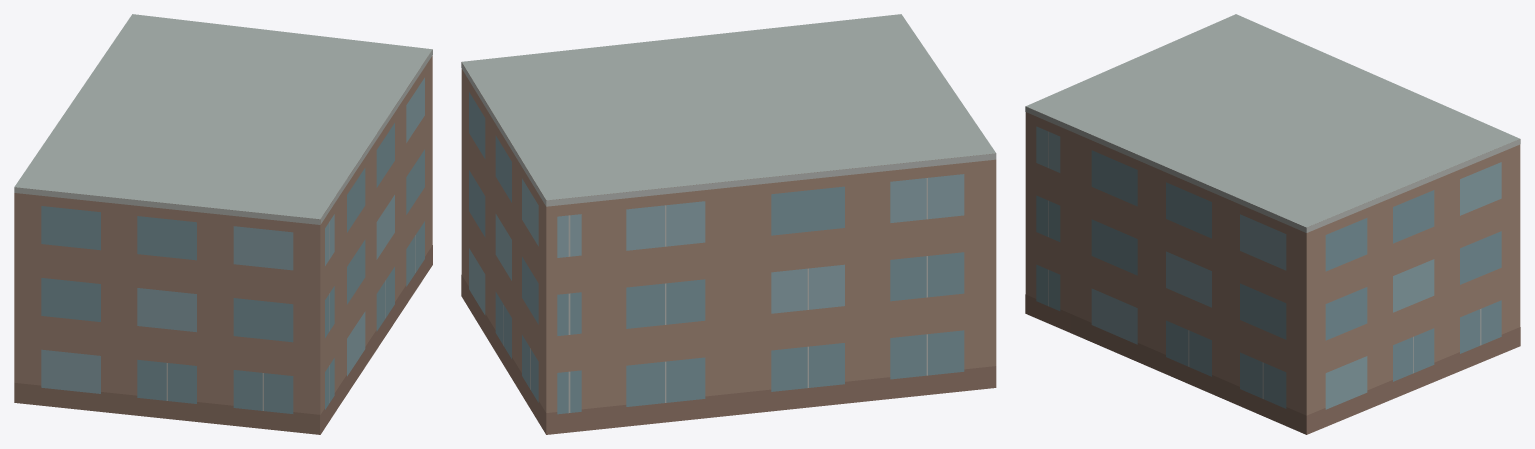
The model's file is survey-upis-32562343.glb.
3 views of the same model, side by side, from view 1: azimuth 30°, elevation 25°; view 2: azimuth 150°, elevation 25°; view 3: azimuth 270°, elevation 25° (orthographic). The views are drawn at different scales.
Parts seen in each view (by area): view 1: survey-upis-32562343.tmp; view 2: survey-upis-32562343.tmp; view 3: survey-upis-32562343.tmp.
Boxes of the visible parts, bbox=[...] form: survey-upis-32562343.tmp: bbox=[14, 14, 432, 434]; survey-upis-32562343.tmp: bbox=[461, 14, 996, 434]; survey-upis-32562343.tmp: bbox=[1025, 14, 1520, 434].
Size of the model in its own units: 20.23 by 9.15 by 19.8.
